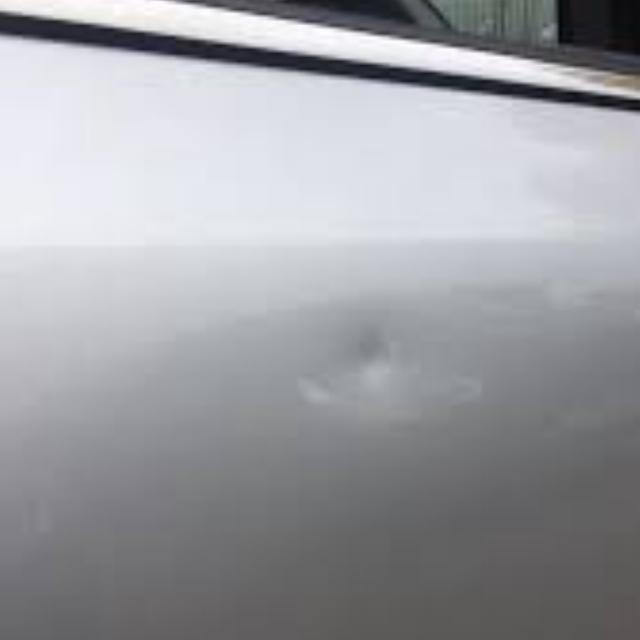dents: (306, 320, 469, 430)
